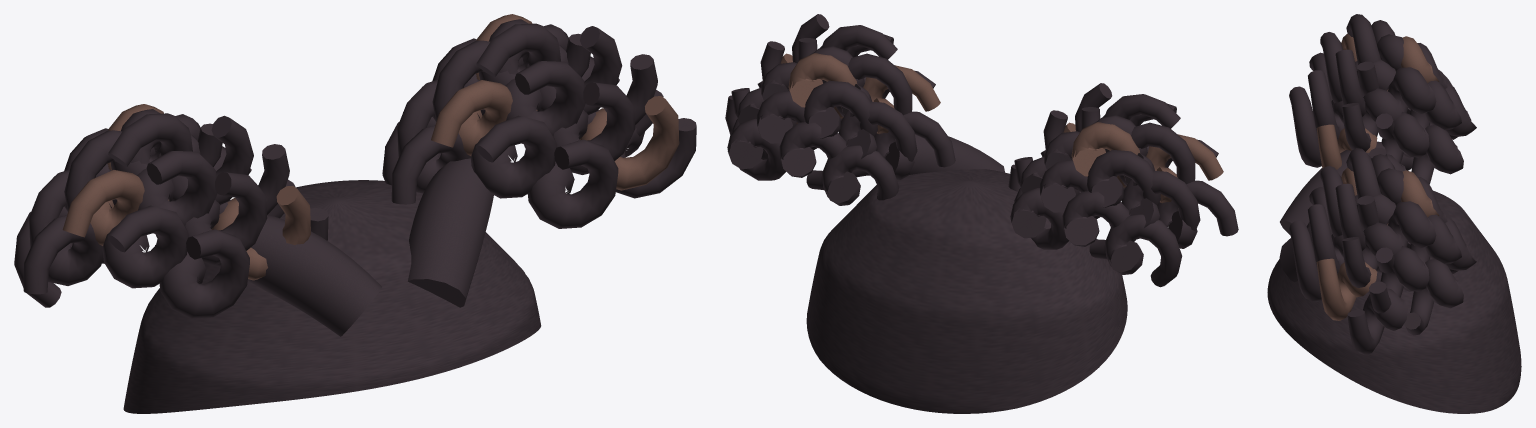
The model's file is hair_twin_puffs_default.gltf.
3 views of the same model, side by side, from view 1: azimuth 30°, elevation 25°; view 2: azimuth 150°, elevation 25°; view 3: azimuth 270°, elevation 25° (orthographic). The views are drawn at different scales.
Visible parts, largest first — view 1: Twin Puffs default; view 2: Twin Puffs default; view 3: Twin Puffs default.
Part boxes in pixels (box(x1,y1,x2,y2)): Twin Puffs default: box(14, 14, 696, 413); Twin Puffs default: box(725, 14, 1238, 413); Twin Puffs default: box(1267, 14, 1521, 413).
Size of the model in its own units: 0.8261 by 0.4478 by 0.3651.
Materials: 2 (2 with a texture image).
